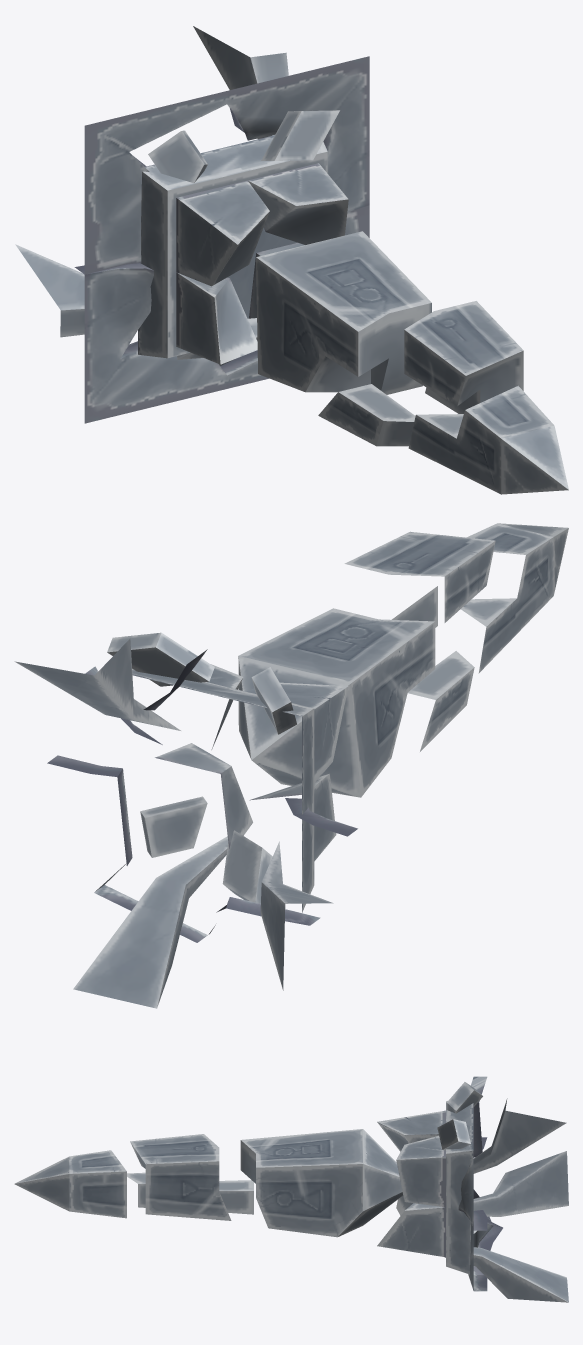
The model's file is obelisk_01.glb.
3 views of the same model, one above another, from view 1: azimuth 30°, elevation 25°; view 2: azimuth 150°, elevation 25°; view 3: azimuth 270°, elevation 25° (orthographic). The views are drawn at different scales.
Parts seen in each view (by area): view 1: obsidian_obelisk.obelisk_base-MeshSets[ground_broken].Mesh[0, obsidian_obelisk.obelisk_base-MeshSets[obelisk_base].Mesh[0], obsidian_obelisk.chunk_01-MeshNodes["chunk_01"], obsidian_obelisk.chunk_04-MeshNodes["chunk_04"], obsidian_obelisk.chunk_03-MeshNodes["chunk_03"], obsidian_obelisk.chunk_02-MeshNodes["chunk_02"]; view 2: obsidian_obelisk.obelisk_base-MeshSets[ground_broken].Mesh[0, obsidian_obelisk.chunk_01-MeshNodes["chunk_01"], obsidian_obelisk.obelisk_base-MeshSets[obelisk_base].Mesh[0], obsidian_obelisk.chunk_03-MeshNodes["chunk_03"], obsidian_obelisk.chunk_04-MeshNodes["chunk_04"], obsidian_obelisk.chunk_02-MeshNodes["chunk_02"]; view 3: obsidian_obelisk.obelisk_base-MeshSets[ground_broken].Mesh[0, obsidian_obelisk.chunk_01-MeshNodes["chunk_01"], obsidian_obelisk.obelisk_base-MeshSets[obelisk_base].Mesh[0], obsidian_obelisk.chunk_03-MeshNodes["chunk_03"], obsidian_obelisk.chunk_04-MeshNodes["chunk_04"], obsidian_obelisk.chunk_02-MeshNodes["chunk_02"].
Part boxes in pixels (box(x1,y1,x2,y2)): obsidian_obelisk.obelisk_base-MeshSets[ground_broken].Mesh[0: box(15, 26, 369, 423); obsidian_obelisk.obelisk_base-MeshSets[obelisk_base].Mesh[0]: box(138, 135, 348, 364); obsidian_obelisk.chunk_01-MeshNodes["chunk_01"]: box(256, 231, 431, 394); obsidian_obelisk.chunk_04-MeshNodes["chunk_04"]: box(408, 385, 568, 494); obsidian_obelisk.chunk_03-MeshNodes["chunk_03"]: box(404, 301, 523, 413); obsidian_obelisk.chunk_02-MeshNodes["chunk_02"]: box(318, 384, 415, 446); obsidian_obelisk.obelisk_base-MeshSets[ground_broken].Mesh[0: box(14, 632, 357, 1008); obsidian_obelisk.chunk_01-MeshNodes["chunk_01"]: box(238, 608, 435, 797); obsidian_obelisk.obelisk_base-MeshSets[obelisk_base].Mesh[0]: box(132, 664, 348, 912); obsidian_obelisk.chunk_03-MeshNodes["chunk_03"]: box(344, 531, 495, 627); obsidian_obelisk.chunk_04-MeshNodes["chunk_04"]: box(461, 523, 568, 673); obsidian_obelisk.chunk_02-MeshNodes["chunk_02"]: box(408, 651, 474, 751); obsidian_obelisk.obelisk_base-MeshSets[ground_broken].Mesh[0: box(437, 1076, 568, 1302); obsidian_obelisk.chunk_01-MeshNodes["chunk_01"]: box(240, 1129, 402, 1237); obsidian_obelisk.obelisk_base-MeshSets[obelisk_base].Mesh[0]: box(377, 1101, 473, 1274); obsidian_obelisk.chunk_03-MeshNodes["chunk_03"]: box(130, 1134, 231, 1220); obsidian_obelisk.chunk_04-MeshNodes["chunk_04"]: box(14, 1150, 145, 1218); obsidian_obelisk.chunk_02-MeshNodes["chunk_02"]: box(219, 1180, 253, 1214).
Bounding box in the file's own units: 2 × 2.03 × 5.02.
1 material, 1 textured.
